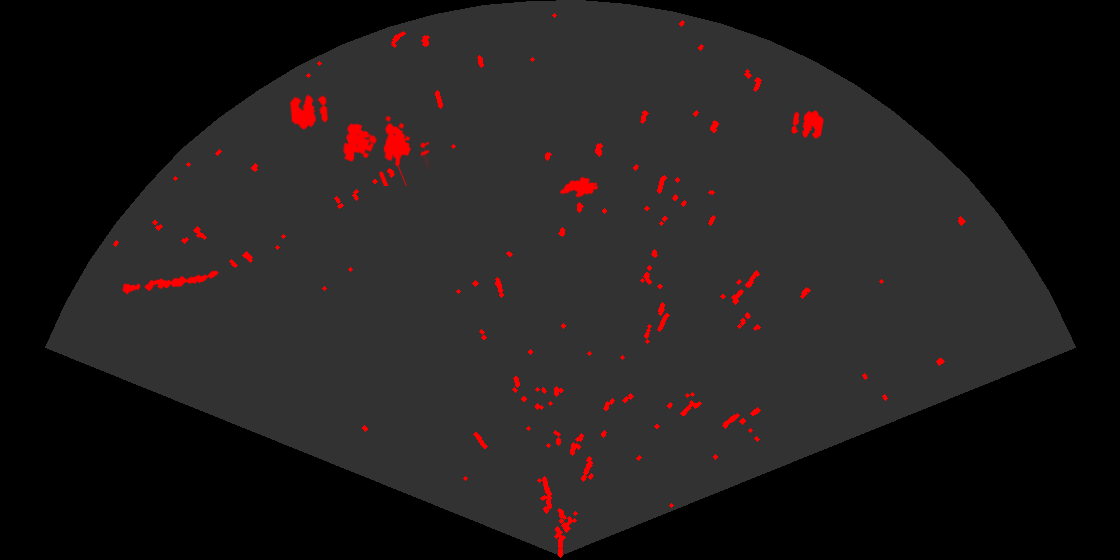AUV: (558, 175, 600, 199)
ball: (288, 93, 330, 131), (790, 109, 825, 140)
cage: (341, 114, 429, 186)
chain: (120, 269, 220, 296)
